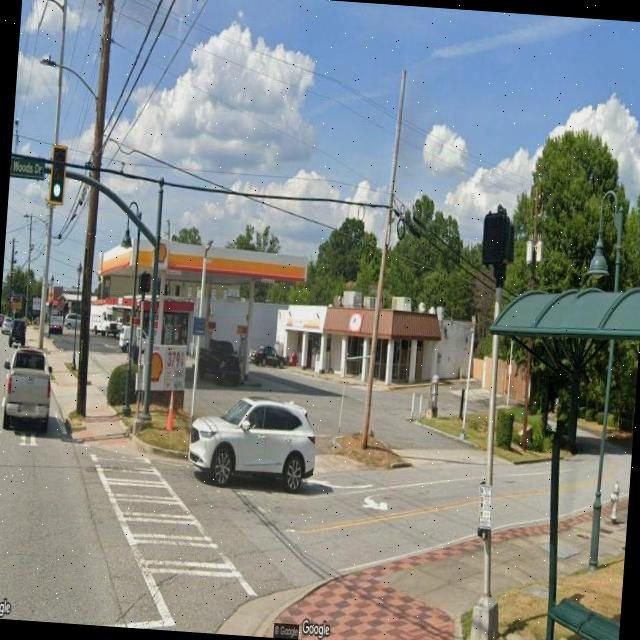seating: (543, 591, 621, 640)
shelter: (464, 279, 640, 640)
